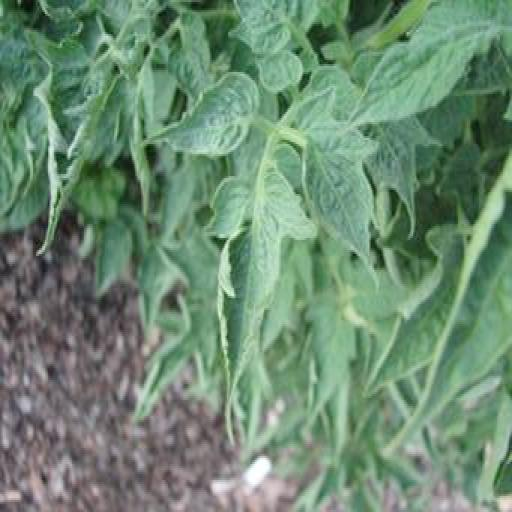disease_tomato: (209, 156, 308, 418), (348, 4, 502, 126), (290, 114, 390, 286), (141, 66, 261, 164), (254, 50, 305, 88)
